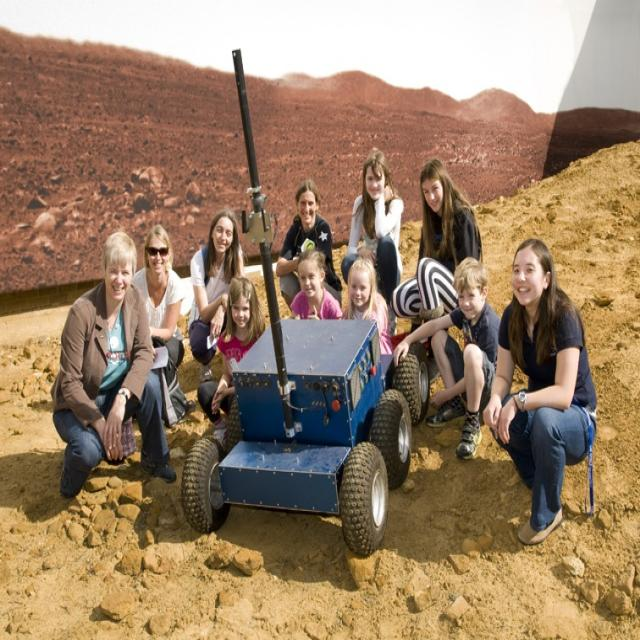body: (481, 236, 598, 546), (49, 231, 180, 505), (392, 256, 503, 464), (390, 159, 481, 389), (340, 147, 403, 336), (188, 210, 245, 384), (210, 276, 267, 442), (275, 178, 344, 314), (132, 222, 188, 372), (339, 256, 393, 360), (288, 247, 344, 321)
